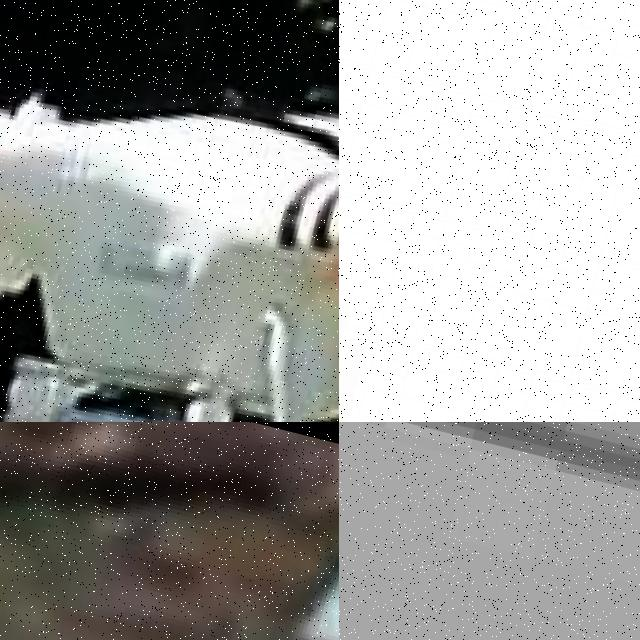drone: (0, 0, 339, 422)
